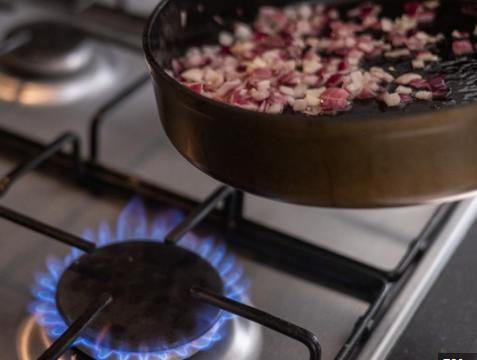controlled_fire: (17, 201, 292, 342)
